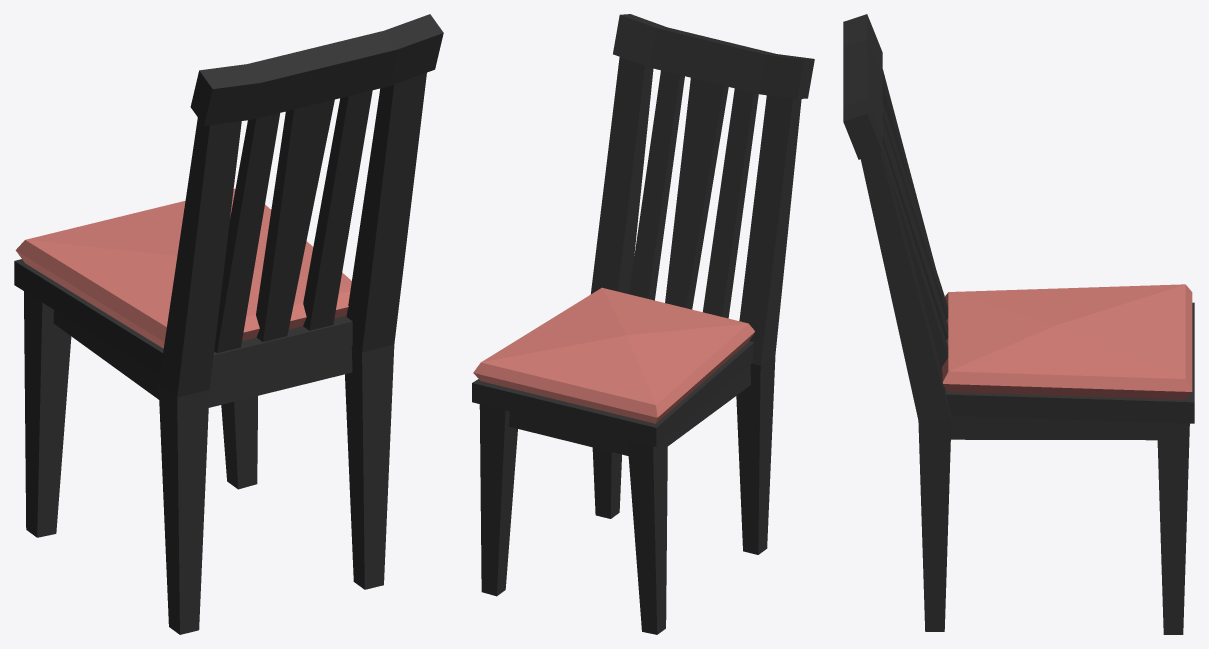
The model's file is Chair_1C.fbx.
3 views of the same model, side by side, from view 1: azimuth 30°, elevation 25°; view 2: azimuth 150°, elevation 25°; view 3: azimuth 270°, elevation 25° (orthographic). The views are drawn at different scales.
Parts seen in each view (by area): view 1: polySurface1738; view 2: polySurface1738; view 3: polySurface1738.
Boxes of the visible parts, bbox=[...] form: polySurface1738: bbox=[14, 14, 443, 634]; polySurface1738: bbox=[472, 14, 814, 634]; polySurface1738: bbox=[843, 14, 1194, 634].
Size of the model in its own units: 0.5004 by 1.22 by 0.7442.
1 material, 1 textured.
